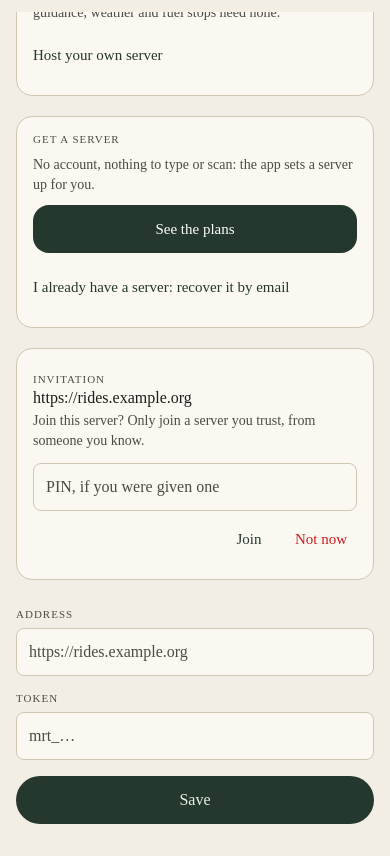
it: an invitation opens the Server screen on it and sets nothing until the rider joins
(page scrolled)
Expected: the element with test id "invitation" is shown, [16,348,374,580]
Expected: the text "https://rides.example.org" is shown, [33,389,192,406]
Click the button with aria-label "Join the server".
click(249, 539)  # box [217,515,281,563]
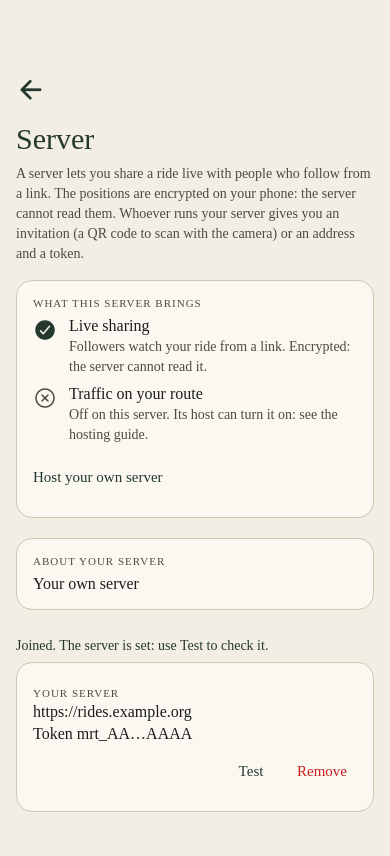
Now the password field with test id "invitation" is gone
Now the text "Joined. The server is set: use Test to check it." is shown, box [16,638,268,653]
